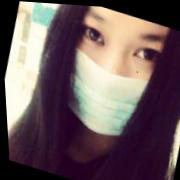WRONG: (41, 3, 180, 157)
